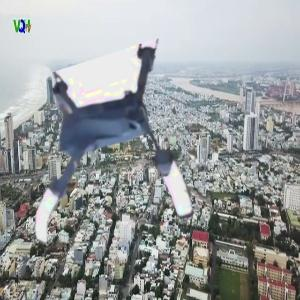drone: (5, 63, 196, 254)
